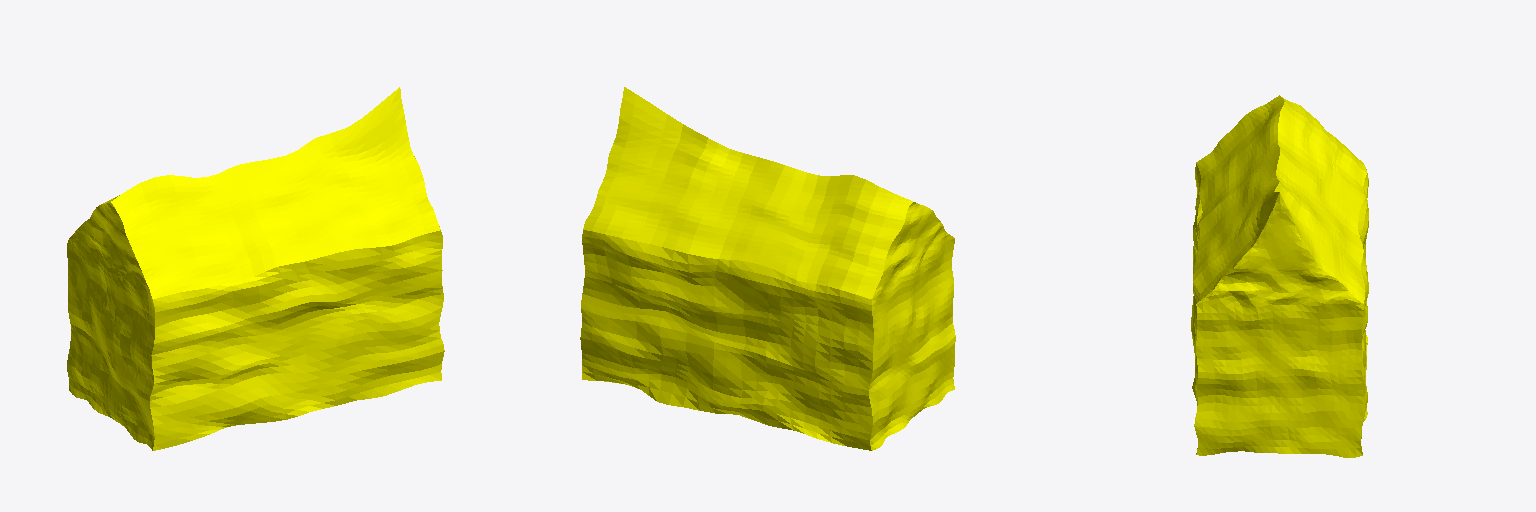
File: reel.obj
3 views of the same model, side by side, from view 1: azimuth 30°, elevation 25°; view 2: azimuth 150°, elevation 25°; view 3: azimuth 270°, elevation 25° (orthographic).
Parts seen in each view (by area): view 1: reel; view 2: reel; view 3: reel.
Boxes of the visible parts, box(x1,y1,x2,y2) form: reel: box(67, 87, 444, 450); reel: box(580, 87, 955, 450); reel: box(1191, 95, 1368, 457).
Bounding box in the file's own units: 8.17 × 7.09 × 4.26.